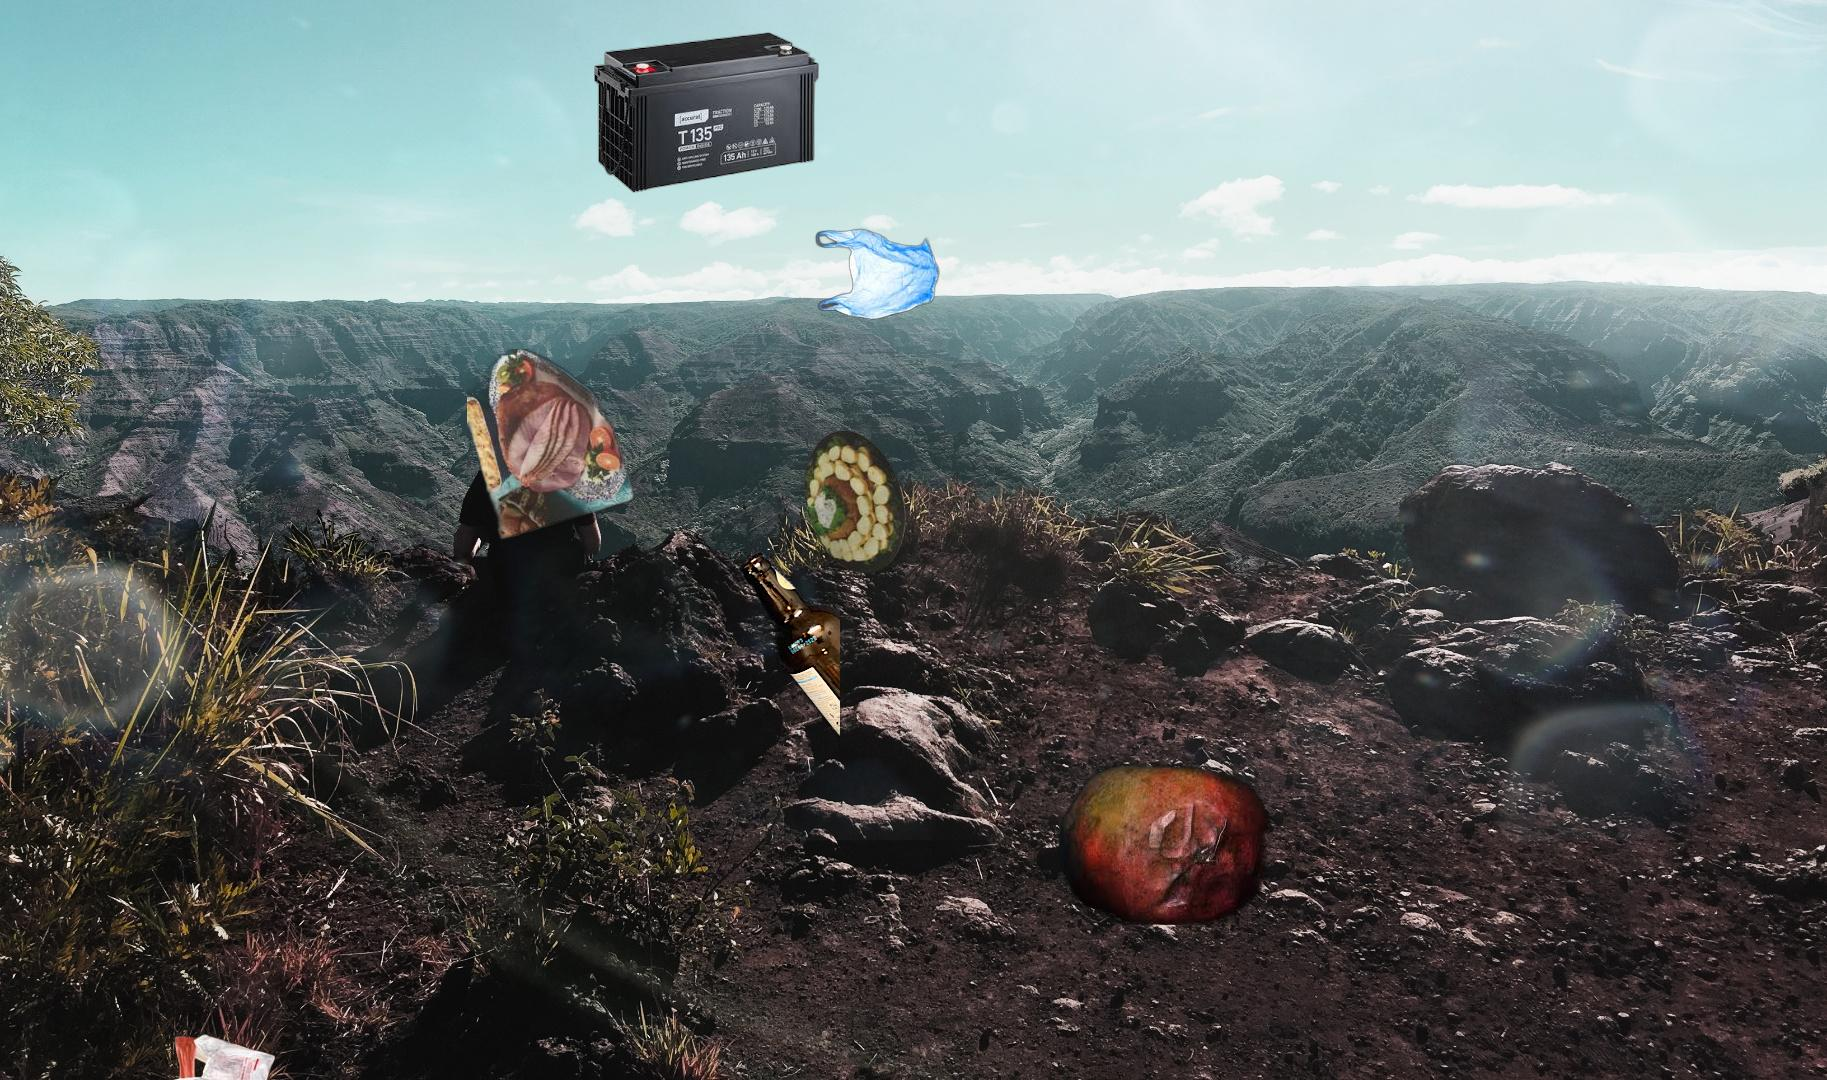battery: (594, 30, 819, 195)
biological: (1003, 762, 1313, 924)
glass: (733, 545, 840, 756)
paper: (467, 348, 912, 656)
plastic-bag: (813, 228, 942, 320), (165, 1031, 282, 1080)
